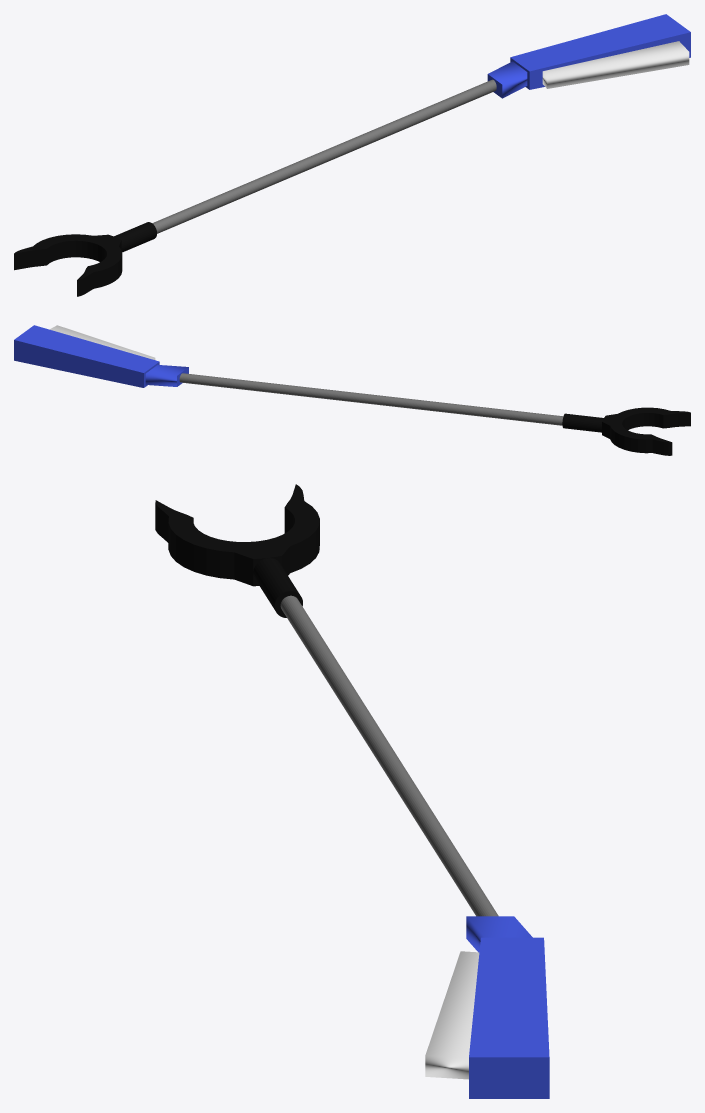
Rendered from マジックハンド.fbx.
The picture shows the model from 3 angles, top to bottom: view 1: azimuth 30°, elevation 25°; view 2: azimuth 150°, elevation 25°; view 3: azimuth 270°, elevation 25°; orthographic projection. The views are drawn at different scales.
Parts seen in each view (by area): view 1: Cube, 円柱15度, 円柱.001, 立方体, 円柱; view 2: Cube, 円柱15度, 円柱.001, 円柱, 立方体; view 3: Cube, 円柱.001, 円柱15度, 立方体, 円柱.
Boxes of the visible parts, x1,y1,x2,y2 form: Cube: (487, 14, 690, 98); 円柱15度: (152, 79, 496, 233); 円柱.001: (14, 234, 122, 296); 立方体: (542, 41, 689, 88); 円柱: (114, 222, 156, 252); Cube: (14, 325, 188, 387); 円柱15度: (179, 373, 563, 425); 円柱.001: (602, 407, 690, 455); 円柱: (562, 413, 603, 432); 立方体: (49, 325, 155, 359); Cube: (466, 916, 549, 1098); 円柱.001: (155, 484, 319, 586); 円柱15度: (280, 595, 498, 916); 立方体: (425, 951, 479, 1079); 円柱: (253, 558, 302, 617).
Bounding box in the file's own units: 172 × 5.75 × 49.36.
